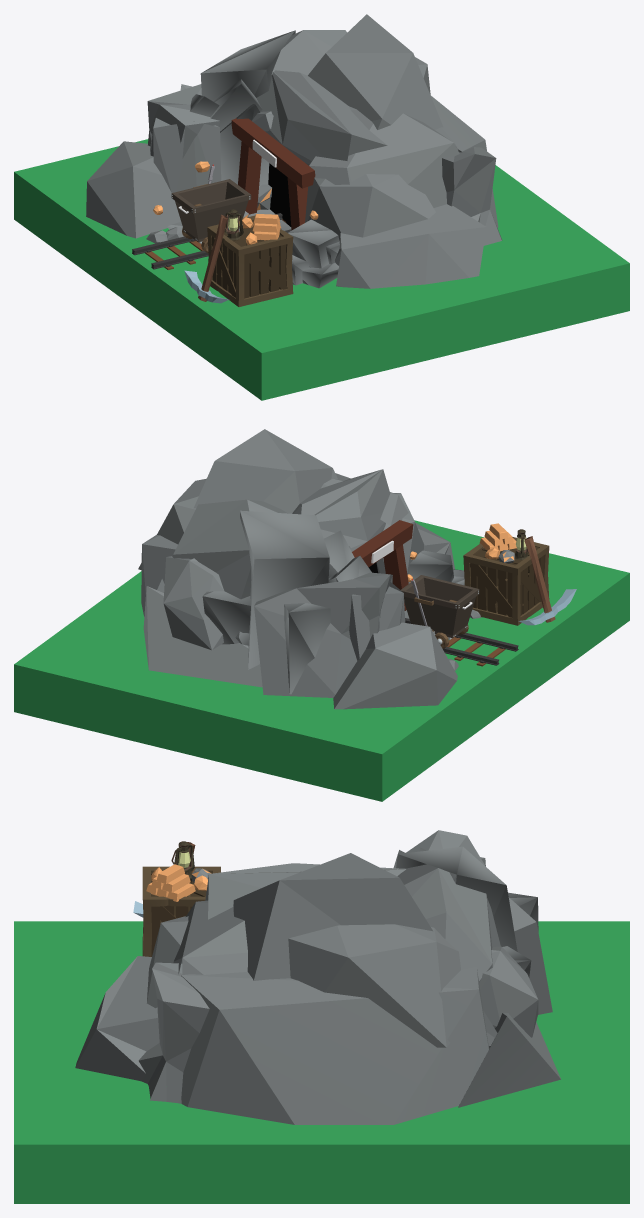
Rendered from mine_new_lvl3.fbx.
3 views of the same model, one above another, from view 1: azimuth 30°, elevation 25°; view 2: azimuth 150°, elevation 25°; view 3: azimuth 270°, elevation 25° (orthographic). The views are drawn at different scales.
Parts seen in each view (by area): view 1: rocks, terrain, Crate, cart, pole3, railroad, pole2, abyss, pole1; view 2: rocks, terrain, Crate, cart, railroad, pole3, pole1; view 3: rocks, terrain, Crate, Lantern.
Part boxes in pixels (x1=…): rocks: x1=86, y1=14, x2=502, y2=303; terrain: x1=14, y1=139, x2=629, y2=400; Crate: x1=207, y1=214, x2=293, y2=306; cart: x1=171, y1=164, x2=251, y2=253; pole3: x1=231, y1=118, x2=315, y2=188; railroad: x1=132, y1=213, x2=291, y2=269; pole2: x1=238, y1=141, x2=261, y2=214; abyss: x1=268, y1=163, x2=291, y2=226; pole1: x1=287, y1=177, x2=307, y2=230; rocks: x1=138, y1=429, x2=576, y2=709; terrain: x1=14, y1=520, x2=629, y2=801; Crate: x1=463, y1=523, x2=549, y2=625; cart: x1=400, y1=575, x2=479, y2=648; railroad: x1=405, y1=618, x2=518, y2=666; pole3: x1=352, y1=520, x2=413, y2=567; pole1: x1=383, y1=544, x2=408, y2=610; rocks: x1=75, y1=830, x2=560, y2=1124; terrain: x1=14, y1=921, x2=629, y2=1203; Crate: x1=142, y1=864, x2=220, y2=956; Lantern: x1=171, y1=841, x2=194, y2=878.
Bounding box in the file's own units: 265 × 150 × 309.
